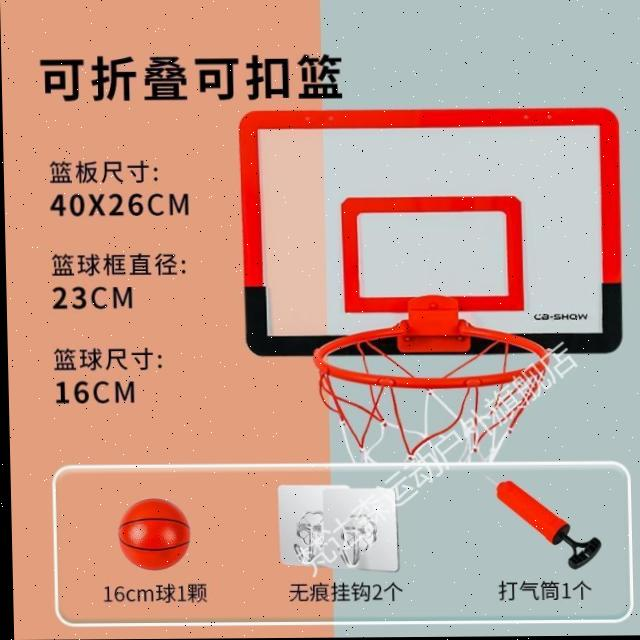basketball: (119, 498, 190, 571)
hoop: (302, 311, 566, 498)
